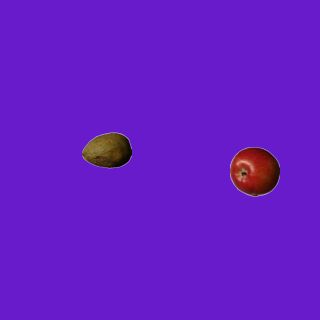Apple Braeburn: (229, 146, 279, 196)
Papaya: (81, 125, 131, 175)
